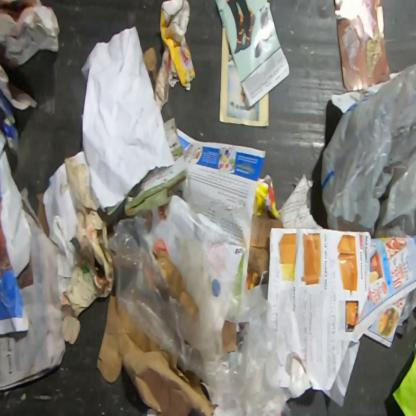cardboard: (95, 294, 219, 415), (160, 0, 196, 92), (157, 248, 198, 314), (248, 210, 284, 276), (253, 174, 280, 219), (142, 46, 158, 86), (223, 321, 238, 352), (246, 270, 268, 290)
soft_plastic: (108, 209, 294, 415), (320, 62, 415, 239)
